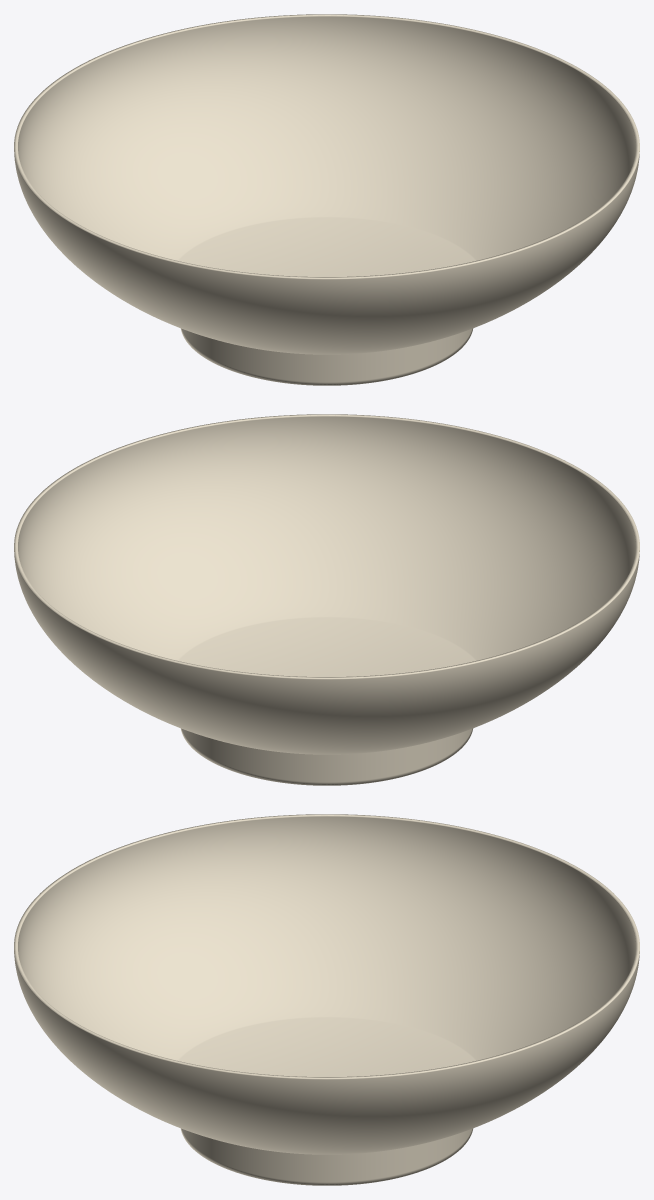
The picture shows the model from 3 angles, top to bottom: view 1: azimuth 30°, elevation 25°; view 2: azimuth 150°, elevation 25°; view 3: azimuth 270°, elevation 25°; orthographic projection.
Parts seen in each view (by area): view 1: MoonJarConcept; view 2: MoonJarConcept; view 3: MoonJarConcept.
Boxes of the visible parts, x1=… form: MoonJarConcept: x1=14, y1=14, x2=639, y2=385; MoonJarConcept: x1=14, y1=414, x2=639, y2=785; MoonJarConcept: x1=14, y1=814, x2=639, y2=1185.
Size of the model in its own units: 0.16 by 0.05 by 0.16.
